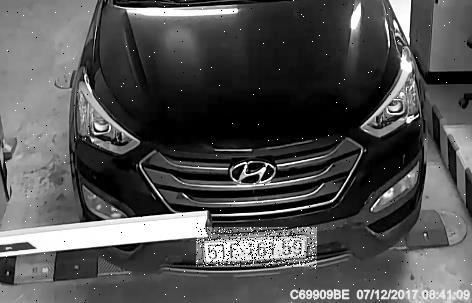License-plate: (197, 228, 318, 268)
